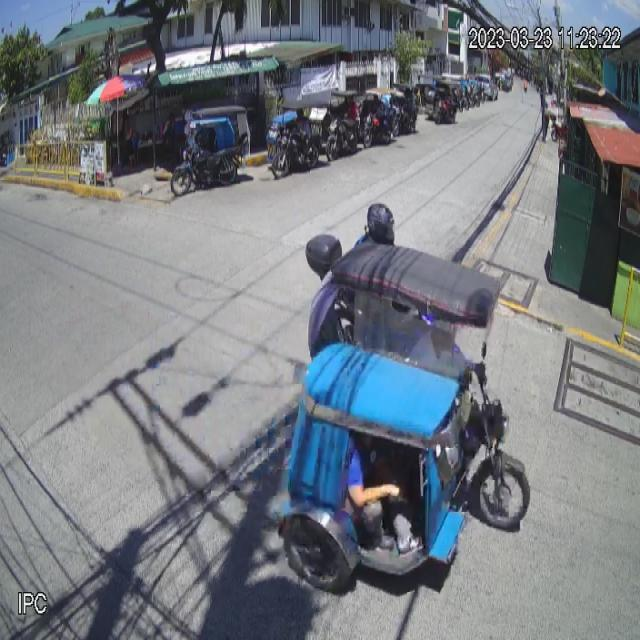Tricycle: (275, 242, 530, 597), (169, 105, 253, 198)
